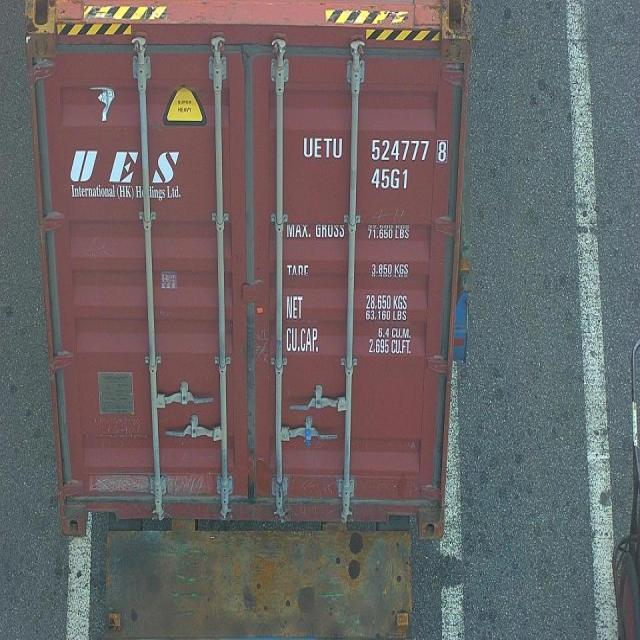ISO: (370, 168, 412, 192)
container_number: (300, 128, 448, 166)
